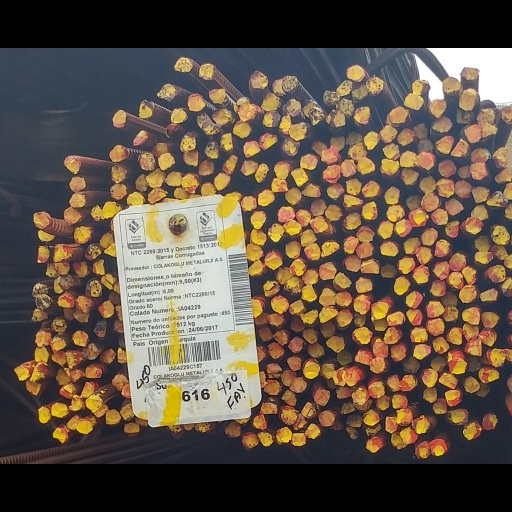dipstick: (245, 25, 269, 54), (459, 47, 479, 79), (386, 70, 411, 95), (185, 55, 208, 81), (263, 249, 285, 276), (268, 302, 290, 329), (353, 418, 374, 446), (462, 90, 483, 118), (382, 166, 402, 195), (206, 47, 230, 71), (369, 308, 389, 336), (211, 73, 235, 96), (462, 206, 485, 230), (468, 192, 493, 214), (429, 60, 450, 86), (490, 217, 511, 243), (333, 273, 353, 300), (230, 87, 253, 110), (156, 42, 178, 66), (61, 132, 83, 156), (240, 111, 261, 136), (408, 196, 429, 221), (425, 331, 446, 356), (311, 418, 332, 443), (52, 239, 73, 264), (393, 278, 413, 304), (301, 382, 321, 408), (333, 318, 353, 344), (366, 407, 386, 433), (447, 249, 467, 275), (462, 458, 482, 484), (486, 367, 506, 393), (178, 102, 197, 129), (437, 133, 456, 160), (477, 70, 496, 97), (289, 92, 311, 115), (257, 53, 279, 76), (282, 60, 304, 83), (432, 107, 454, 130), (385, 320, 407, 343), (352, 343, 375, 365), (467, 140, 489, 163), (65, 158, 89, 179), (412, 451, 433, 475), (262, 76, 283, 100), (291, 147, 311, 172), (460, 316, 480, 341), (362, 477, 387, 497), (108, 75, 127, 101), (284, 169, 303, 195), (355, 236, 374, 262), (273, 463, 292, 489), (101, 184, 120, 210), (353, 70, 371, 97), (181, 152, 199, 179), (309, 206, 331, 228), (317, 445, 339, 467), (353, 368, 375, 390), (468, 120, 490, 142), (280, 33, 301, 56), (344, 19, 365, 42), (420, 178, 441, 201), (265, 215, 286, 238), (399, 146, 420, 169), (263, 324, 286, 345), (477, 392, 500, 413), (31, 201, 52, 224), (83, 284, 104, 307), (108, 142, 128, 166), (396, 99, 416, 123), (317, 294, 337, 318), (410, 267, 430, 291), (399, 400, 419, 424), (259, 104, 279, 128), (156, 126, 175, 151), (276, 192, 295, 217), (64, 371, 83, 396), (343, 201, 361, 227), (34, 240, 52, 266), (322, 144, 343, 166), (385, 192, 406, 214), (324, 353, 345, 375), (445, 380, 467, 401), (305, 361, 326, 383), (486, 266, 507, 288), (61, 195, 82, 217), (318, 121, 341, 141), (300, 318, 320, 341), (394, 443, 414, 466), (429, 479, 449, 502), (378, 92, 398, 115), (74, 303, 94, 326), (137, 62, 154, 89), (345, 390, 362, 417), (164, 150, 183, 174), (318, 262, 337, 286), (420, 220, 439, 244), (480, 321, 499, 345), (31, 387, 50, 411), (213, 150, 231, 175), (248, 197, 266, 222), (433, 260, 451, 285), (465, 358, 483, 383), (404, 55, 425, 76), (301, 164, 322, 185), (439, 35, 460, 56), (394, 257, 415, 278), (365, 36, 385, 58), (266, 361, 286, 383), (435, 161, 455, 183), (72, 219, 92, 241), (55, 302, 75, 324), (402, 232, 421, 255), (409, 341, 428, 364), (440, 315, 459, 338), (241, 471, 260, 494), (172, 9, 191, 32), (453, 162, 472, 185), (303, 238, 321, 262), (300, 291, 318, 315), (303, 460, 321, 484), (459, 291, 477, 315), (414, 481, 432, 505), (97, 309, 115, 333), (422, 392, 439, 417), (91, 334, 108, 359), (298, 130, 318, 151), (320, 236, 340, 257), (249, 222, 269, 243), (379, 236, 399, 257), (287, 260, 307, 281), (317, 318, 338, 338), (430, 355, 451, 375), (449, 444, 470, 464), (84, 427, 104, 448), (169, 73, 191, 92), (107, 118, 126, 140), (269, 156, 288, 178), (354, 280, 373, 302), (404, 299, 423, 321), (57, 278, 76, 300), (139, 126, 155, 152), (362, 103, 380, 126), (417, 128, 435, 151), (324, 192, 342, 215), (376, 211, 394, 234), (283, 236, 301, 259), (430, 196, 448, 219), (481, 449, 499, 472), (279, 440, 297, 463), (493, 120, 510, 144), (298, 224, 318, 244), (362, 444, 382, 464), (445, 185, 465, 205), (383, 450, 399, 475), (433, 428, 449, 453), (283, 211, 302, 232), (417, 158, 436, 179), (300, 272, 321, 291), (360, 258, 381, 277), (412, 364, 431, 385), (473, 247, 494, 266), (462, 404, 481, 425), (335, 38, 354, 59), (357, 135, 375, 157), (362, 161, 380, 183), (147, 149, 165, 171), (288, 309, 306, 331), (390, 363, 408, 385), (377, 212, 395, 234), (400, 466, 418, 488), (146, 174, 168, 192), (273, 138, 290, 161), (258, 172, 275, 195), (202, 112, 219, 135), (361, 189, 378, 212), (344, 254, 361, 277), (372, 358, 389, 381), (427, 309, 444, 332), (445, 419, 462, 442), (471, 169, 488, 192), (448, 273, 465, 296), (224, 456, 241, 479), (412, 89, 429, 112), (379, 135, 399, 154), (299, 223, 319, 242), (261, 286, 281, 305), (245, 241, 264, 261), (404, 320, 423, 340), (289, 404, 308, 424), (260, 408, 279, 428), (260, 433, 280, 452), (84, 240, 103, 260), (10, 389, 29, 409), (34, 304, 53, 324), (337, 62, 355, 83), (72, 347, 90, 368), (495, 145, 510, 170), (309, 185, 326, 207), (67, 179, 89, 196), (82, 362, 99, 384), (448, 343, 464, 366), (369, 380, 388, 399), (383, 344, 402, 363), (50, 467, 69, 486), (197, 20, 217, 38), (343, 231, 361, 251), (335, 299, 353, 319), (402, 379, 420, 399), (289, 470, 307, 490), (256, 471, 274, 491), (301, 344, 319, 364), (84, 389, 104, 407), (75, 455, 93, 475), (411, 40, 432, 57), (344, 160, 361, 181), (111, 165, 127, 187), (131, 99, 147, 121), (288, 354, 304, 376), (36, 440, 52, 462), (400, 126, 415, 149), (326, 166, 344, 185), (462, 22, 480, 41), (34, 347, 52, 366), (50, 435, 68, 454), (322, 52, 339, 72), (428, 285, 445, 305), (50, 355, 67, 375), (111, 401, 128, 421), (51, 329, 67, 350), (105, 443, 121, 464), (25, 408, 41, 429), (98, 224, 113, 246), (239, 182, 256, 201), (379, 264, 398, 281), (121, 460, 140, 477), (29, 321, 48, 338), (435, 235, 449, 258), (248, 260, 263, 281), (287, 378, 304, 396), (392, 426, 409, 444), (416, 111, 434, 128), (32, 288, 49, 306), (336, 419, 354, 436), (266, 387, 282, 406), (198, 137, 214, 156), (423, 415, 437, 436), (33, 369, 49, 387), (241, 139, 257, 156), (128, 177, 145, 193), (348, 451, 363, 469), (101, 369, 115, 388), (328, 108, 345, 123), (201, 168, 218, 180)
